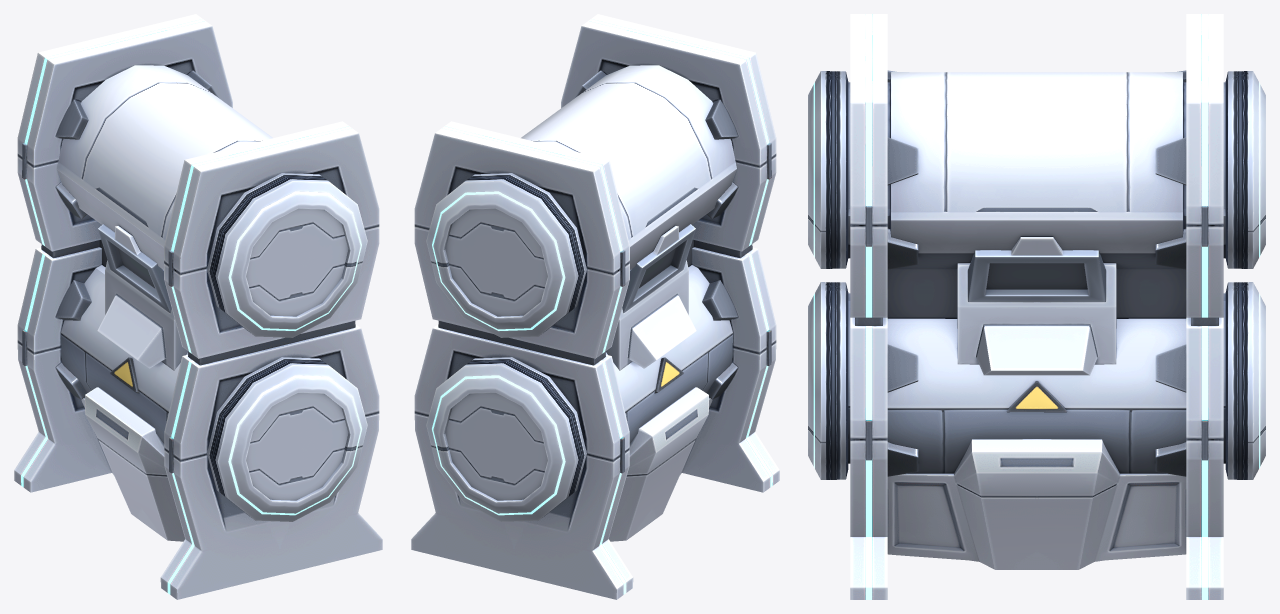
File: obj_lab06.gltf
The picture shows the model from 3 angles, left to right: view 1: azimuth 30°, elevation 25°; view 2: azimuth 150°, elevation 25°; view 3: azimuth 270°, elevation 25°; orthographic projection. The views are drawn at different scales.
Parts seen in each view (by area): view 1: obj_lab06; view 2: obj_lab06; view 3: obj_lab06.
Part boxes in pixels (box(x1,y1,x2,y2)): obj_lab06: box(14, 14, 382, 599); obj_lab06: box(411, 14, 779, 599); obj_lab06: box(808, 14, 1265, 599).
Size of what is drawn, in the model's own units: 1.3 by 2.55 by 2.19.
3 materials, 2 textured.
